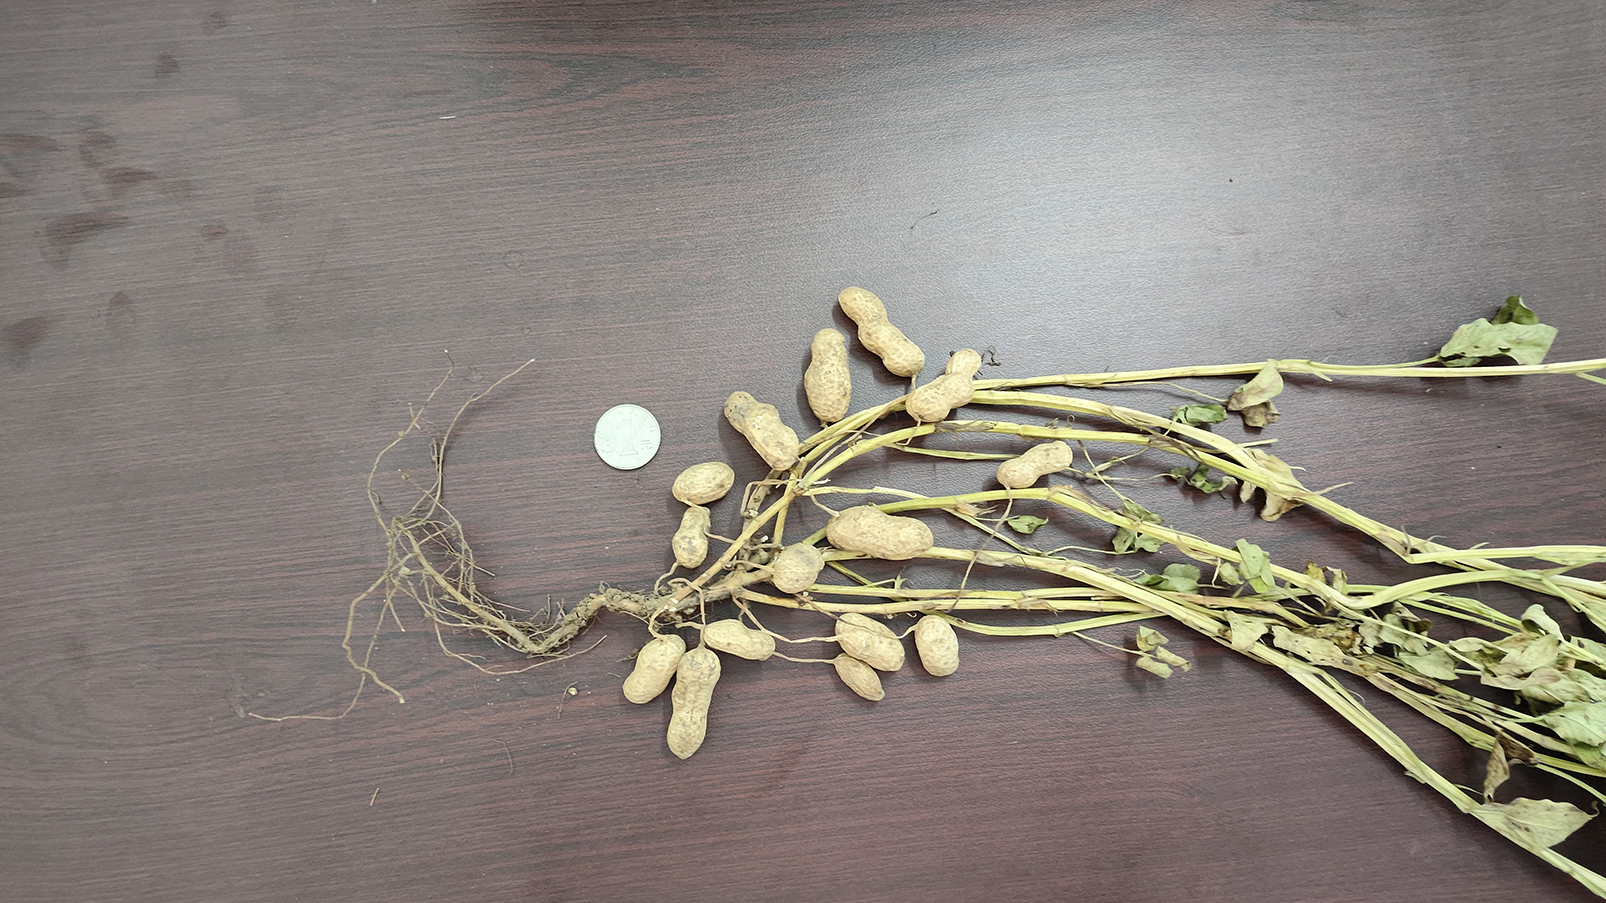h: (837, 284, 927, 376), (666, 647, 722, 759), (825, 504, 934, 559), (724, 389, 797, 467), (907, 350, 983, 422), (803, 327, 853, 419), (623, 633, 687, 703), (834, 612, 904, 670), (996, 439, 1074, 487), (704, 620, 777, 660), (914, 613, 961, 677), (670, 461, 735, 504), (832, 654, 887, 699), (672, 505, 711, 567), (771, 542, 822, 590)
